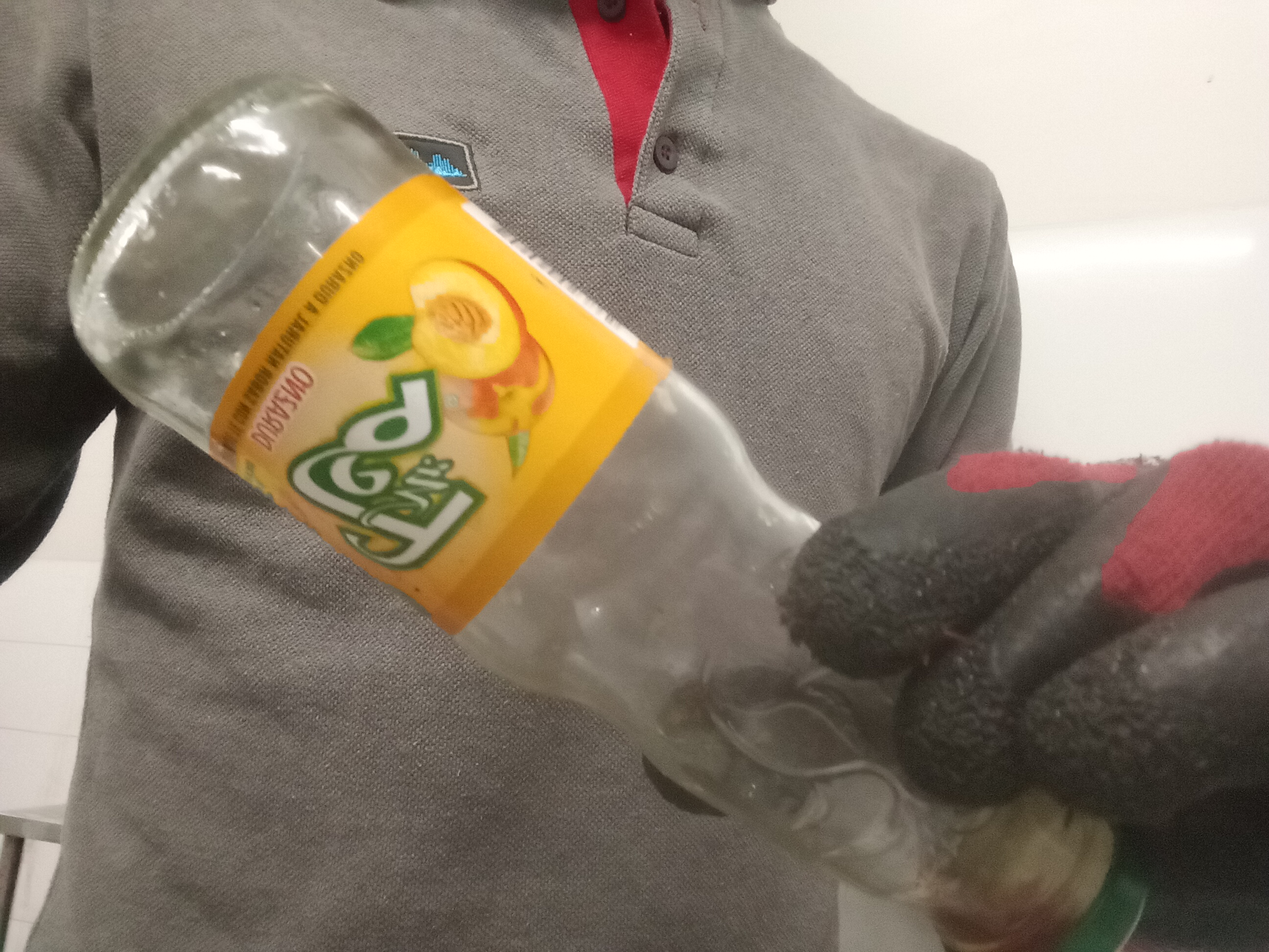Vidrio: (65, 70, 1156, 952)
